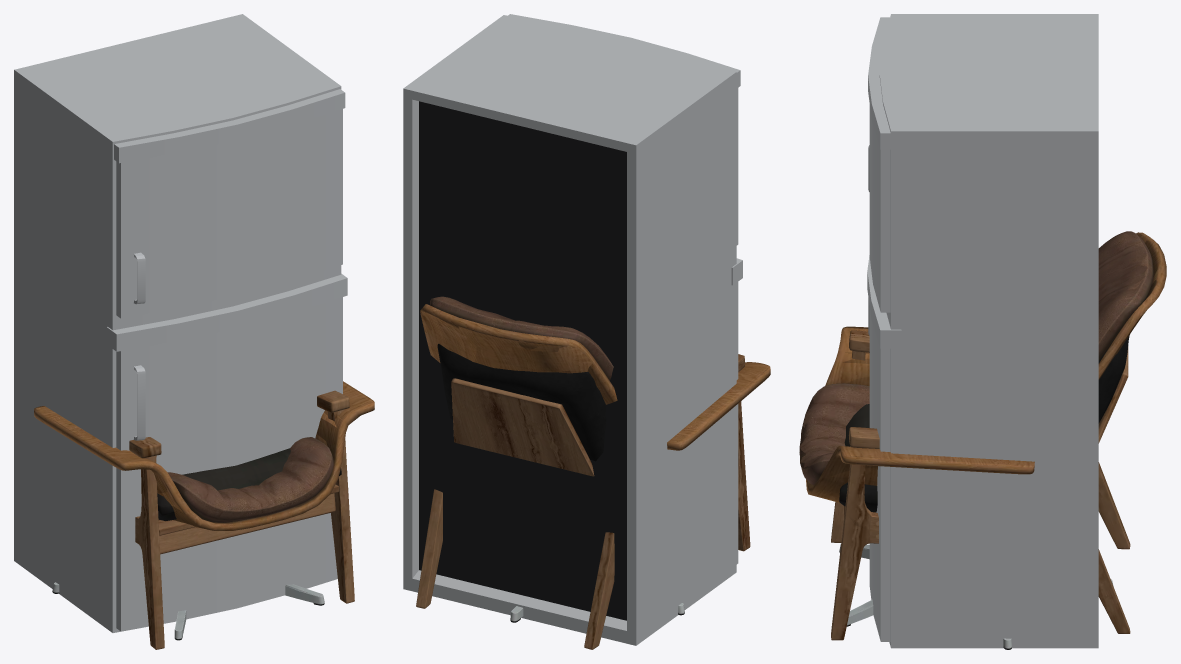
File: furniture.glb
The picture shows the model from 3 angles, left to right: view 1: azimuth 30°, elevation 25°; view 2: azimuth 150°, elevation 25°; view 3: azimuth 270°, elevation 25°; orthographic projection. The views are drawn at different scales.
Visible parts, largest first — view 1: Kitchen_Fridge, mid_century_lounge_chair (×2), modern_arm_chair_01 (×2); view 2: Kitchen_Fridge, modern_arm_chair_01 (×2), mid_century_lounge_chair (×2); view 3: Kitchen_Fridge, mid_century_lounge_chair (×2), modern_arm_chair_01 (×2).
Part boxes in pixels (x1,y1,x2,y2): Kitchen_Fridge: [14, 14, 347, 632]; mid_century_lounge_chair (×2): [34, 381, 374, 640]; modern_arm_chair_01 (×2): [129, 390, 354, 649]; Kitchen_Fridge: [403, 14, 742, 645]; modern_arm_chair_01 (×2): [416, 343, 750, 649]; mid_century_lounge_chair (×2): [420, 296, 770, 622]; Kitchen_Fridge: [867, 14, 1098, 648]; mid_century_lounge_chair (×2): [799, 231, 1166, 649]; modern_arm_chair_01 (×2): [831, 330, 1130, 640].
Size of the model in its own units: 1.01 by 1.85 by 1.19.
Materials: 13 (6 with a texture image).
